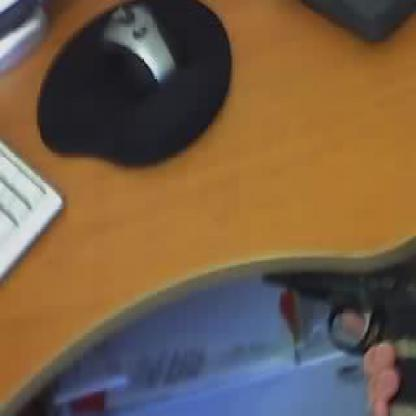gun: (258, 200, 414, 414)
